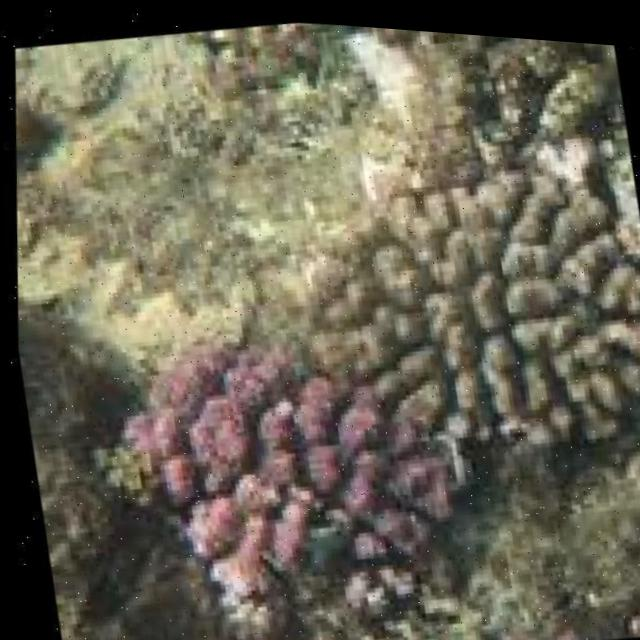Healthy Coral: (106, 296, 454, 640), (304, 143, 640, 496)
